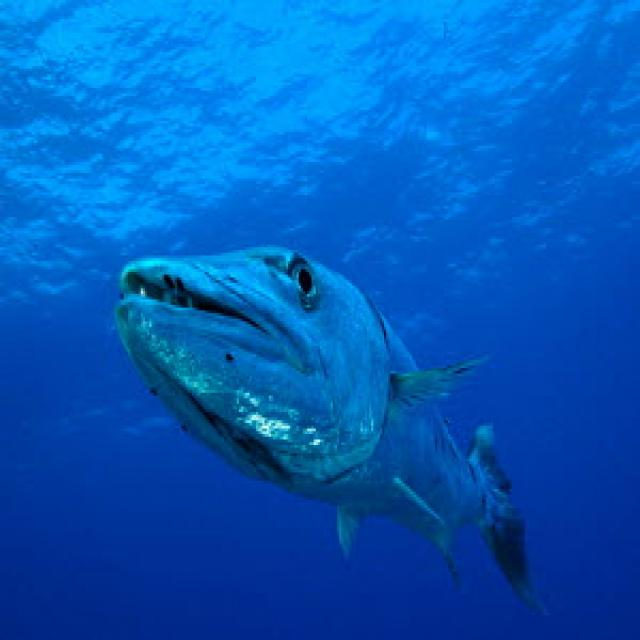Barracuda: (113, 239, 553, 621)
